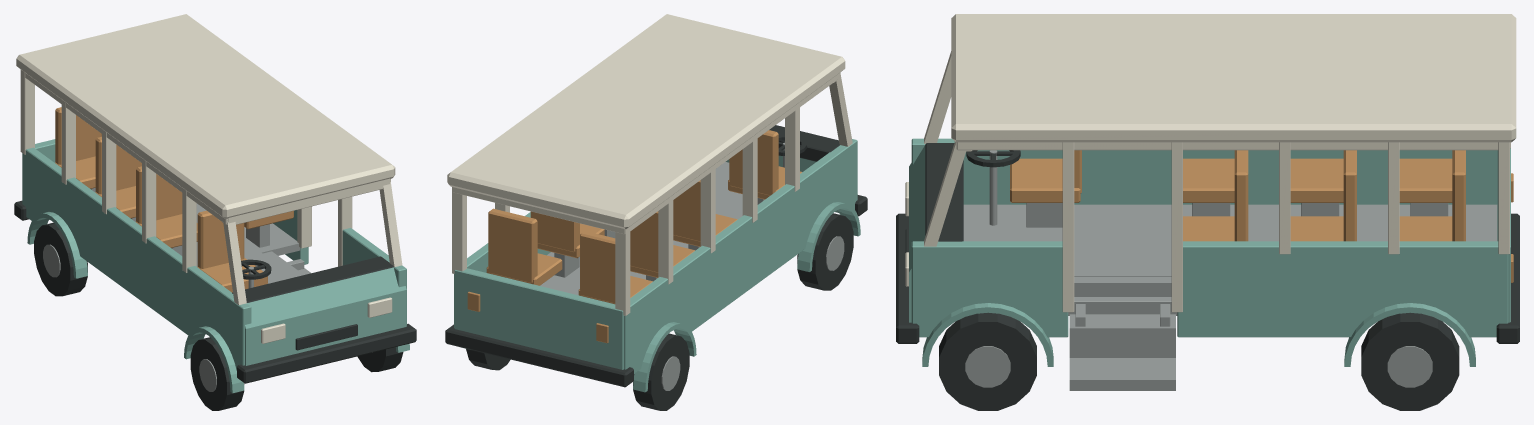
The picture shows the model from 3 angles, left to right: view 1: azimuth 30°, elevation 25°; view 2: azimuth 150°, elevation 25°; view 3: azimuth 270°, elevation 25°; orthographic projection. The views are drawn at different scales.
Parts seen in each view (by area): view 1: Roof_ContinuousCap, LowerSide_Left_Full, FrontApron_Sloped, Bumper_Front, Dashboard_Fixed, Tyre_Rear_Left_FlatContact, Tyre_Front_Left_FlatContact, DriverSeat_Back, CabinFloor_RealEntryNotch, Windshield_Header, LowerSide_Right_Front, PassengerSeat_Row1_Left_Back (+28 smaller); view 2: Roof_ContinuousCap, LowerSide_Left_Full, RearLowerPanel, Bumper_Rear, PassengerSeat_Row3_Right_Back, PassengerSeat_Row3_Left_Back, Tyre_Front_Left_FlatContact, Tyre_Rear_Left_FlatContact, CabinFloor_RealEntryNotch, DriverSeat_Back, PassengerSeat_Row2_Left_Back, PassengerSeat_Row1_Left_Back (+22 smaller); view 3: Roof_ContinuousCap, LowerSide_Right_Rear, LowerSide_Left_Full, CabinFloor_RealEntryNotch, LowerSide_Right_Front, EntryStair_IntegralTwoTreads, Tyre_Rear_Right_FlatContact, Tyre_Front_Right_FlatContact, UpperRail_Right, Dashboard_Fixed, DriverSeat_Cushion, PassengerSeat_Row2_Left_Cushion (+25 smaller).
Part boxes in pixels (box(x1,y1,x2,y2)): Roof_ContinuousCap: box(16, 14, 395, 218); LowerSide_Left_Full: box(22, 147, 251, 370); FrontApron_Sloped: box(245, 267, 406, 365); Bumper_Front: box(237, 323, 416, 383); Dashboard_Fixed: box(232, 256, 393, 302); Tyre_Rear_Left_FlatContact: box(34, 222, 87, 296); Tyre_Front_Left_FlatContact: box(190, 337, 244, 410); DriverSeat_Back: box(197, 210, 244, 268); CabinFloor_RealEntryNotch: box(196, 203, 300, 283); Windshield_Header: box(222, 178, 390, 224); LowerSide_Right_Front: box(342, 228, 406, 325); PassengerSeat_Row1_Left_Back: box(136, 166, 182, 223); Roof_ContinuousCap: box(447, 14, 845, 229); LowerSide_Left_Full: box(624, 139, 857, 373); RearLowerPanel: box(454, 268, 623, 369); Bumper_Rear: box(445, 324, 633, 387); PassengerSeat_Row3_Right_Back: box(488, 208, 537, 283); PassengerSeat_Row3_Left_Back: box(580, 231, 615, 303); Tyre_Front_Left_FlatContact: box(797, 213, 853, 290); Tyre_Rear_Left_FlatContact: box(633, 333, 689, 410); CabinFloor_RealEntryNotch: box(540, 162, 742, 295); DriverSeat_Back: box(729, 130, 778, 195); PassengerSeat_Row2_Left_Back: box(630, 211, 658, 272); PassengerSeat_Row1_Left_Back: box(673, 180, 700, 241); Roof_ContinuousCap: box(951, 14, 1516, 142); LowerSide_Right_Rear: box(1177, 241, 1508, 337); LowerSide_Left_Full: box(911, 138, 1497, 204); CabinFloor_RealEntryNotch: box(963, 204, 1497, 276); LowerSide_Right_Front: box(911, 241, 1068, 337); EntryStair_IntegralTwoTreads: box(1069, 276, 1175, 390); Tyre_Rear_Right_FlatContact: box(1361, 312, 1459, 410); Tyre_Front_Right_FlatContact: box(939, 312, 1036, 410); UpperRail_Right: box(956, 142, 1498, 150); Dashboard_Fixed: box(925, 143, 963, 241); DriverSeat_Cushion: box(1010, 158, 1080, 202); PassengerSeat_Row2_Left_Cushion: box(1290, 158, 1343, 202).
Bounding box in the file's own units: 2.23 × 2.3 × 4.58.
